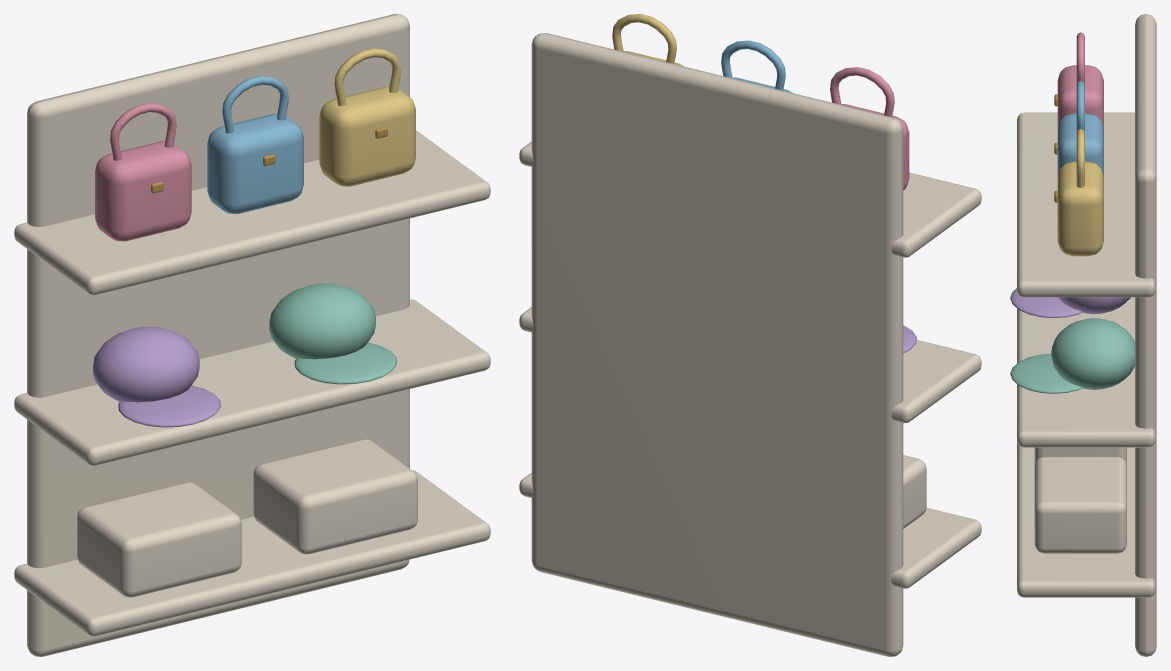
The model's file is cl_accessories.glb.
The picture shows the model from 3 angles, left to right: view 1: azimuth 30°, elevation 25°; view 2: azimuth 150°, elevation 25°; view 3: azimuth 270°, elevation 25°; orthographic projection. The views are drawn at different scales.
Parts seen in each view (by area): view 1: prop; view 2: prop; view 3: prop.
Boxes of the visible parts, <box> form: prop: <box>14,14,490,656</box>; prop: <box>519,14,981,656</box>; prop: <box>1010,14,1156,656</box>.
Bounding box in the file's own units: 1.51 × 2.01 × 0.5401.
